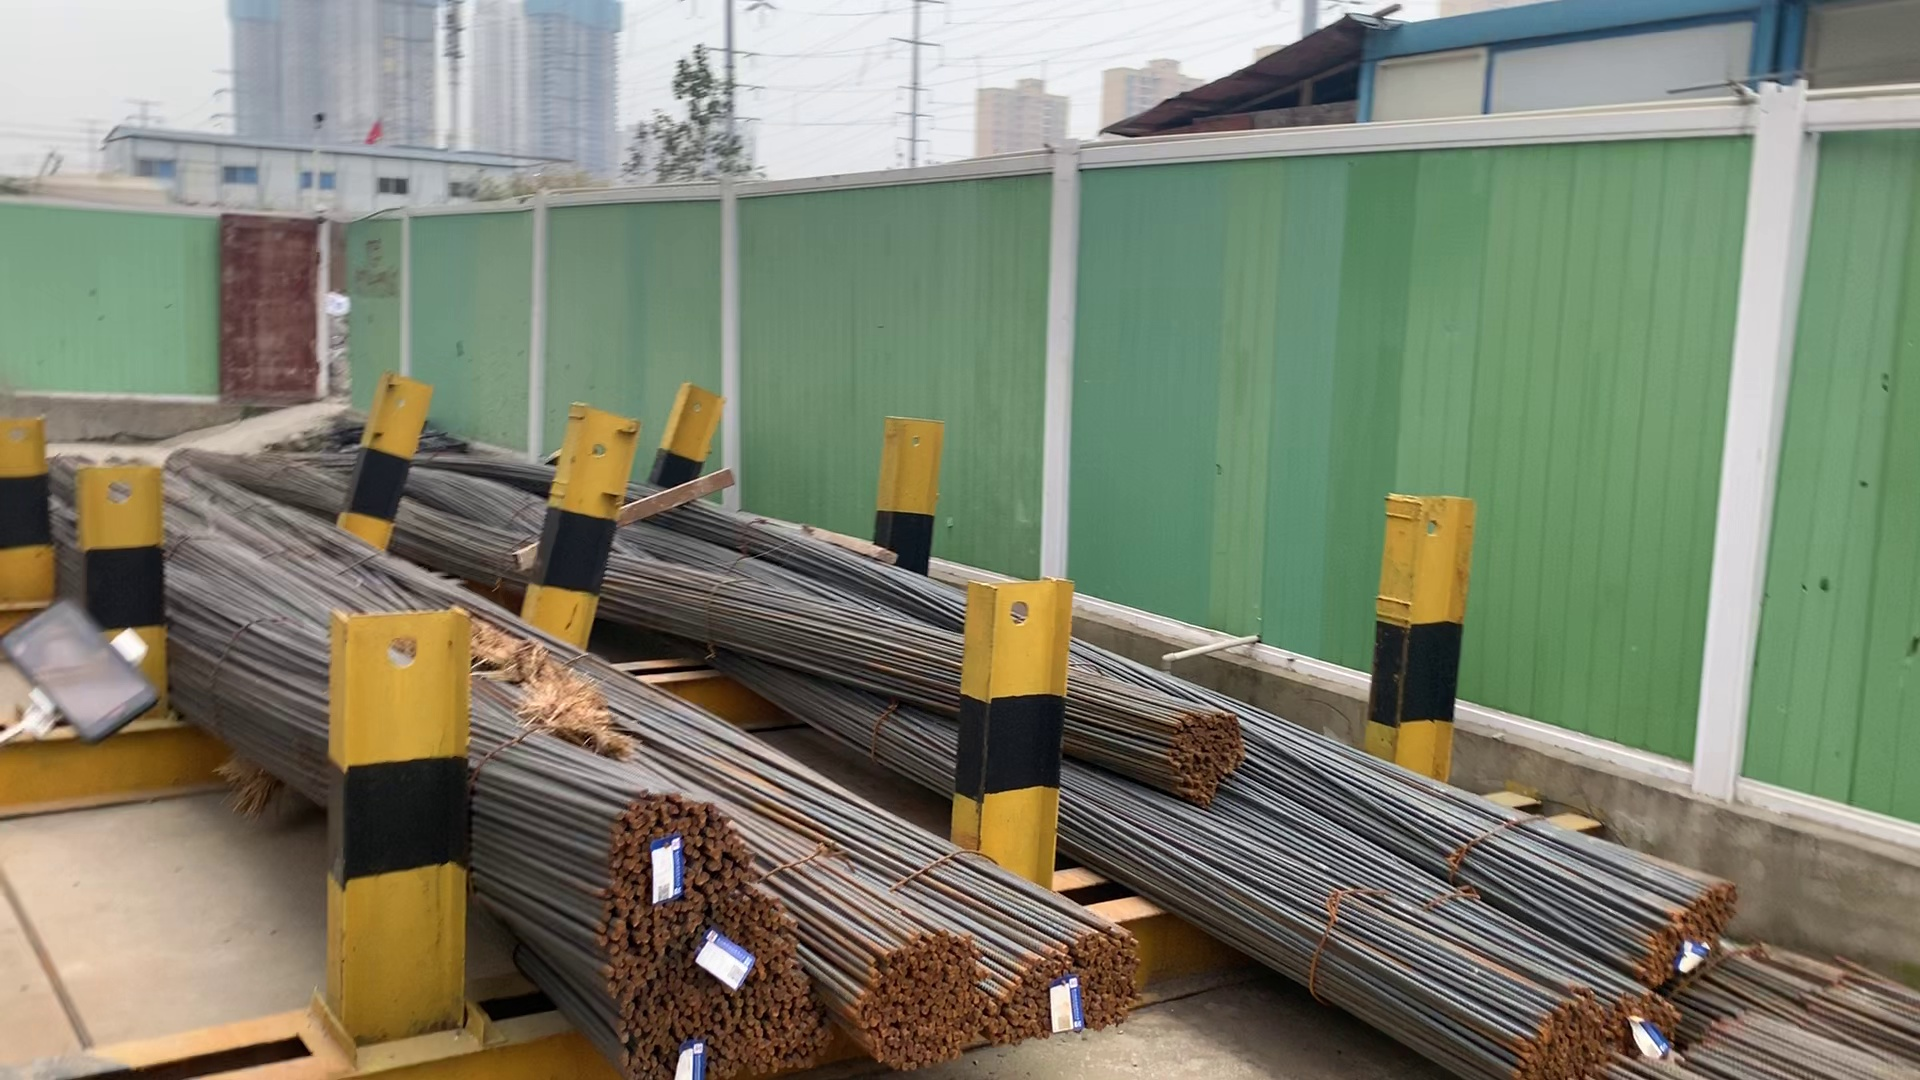rebar: (603, 789, 825, 1077), (988, 926, 1138, 1040), (1509, 985, 1676, 1080), (861, 930, 975, 1065), (1633, 876, 1750, 985), (1158, 702, 1246, 810)
